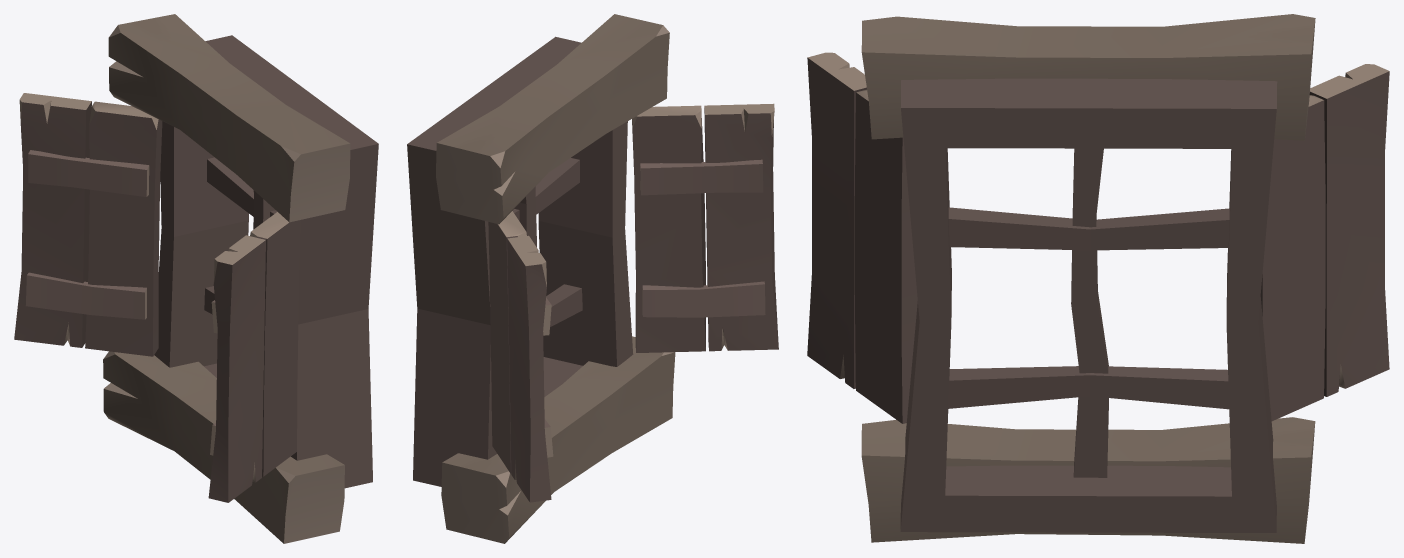
The model's file is window_2.glb.
The picture shows the model from 3 angles, left to right: view 1: azimuth 30°, elevation 25°; view 2: azimuth 150°, elevation 25°; view 3: azimuth 270°, elevation 25°; orthographic projection. The views are drawn at different scales.
Visible parts, largest first — view 1: Cube.018, Cube.013, Cube.017, Cube.014, Cube.015; view 2: Cube.018, Cube.014, Cube.017, Cube.015, Cube.013; view 3: Cube.018, Cube.013, Cube.014, Cube.017, Cube.015.
Part boxes in pixels (x1,y1,x2,y2): Cube.018: [154, 35, 378, 488]; Cube.013: [14, 93, 162, 356]; Cube.017: [108, 14, 350, 222]; Cube.014: [208, 212, 300, 502]; Cube.015: [103, 351, 344, 543]; Cube.018: [407, 36, 633, 486]; Cube.014: [632, 103, 778, 352]; Cube.017: [436, 14, 669, 224]; Cube.015: [441, 336, 675, 543]; Cube.013: [488, 211, 553, 502]; Cube.018: [900, 78, 1277, 532]; Cube.013: [1260, 64, 1389, 421]; Cube.014: [807, 52, 917, 423]; Cube.017: [861, 14, 1315, 140]; Cube.015: [861, 417, 1315, 543].
Bounding box in the file's own units: 0.8475 × 1.59 × 1.69.
Materials: 3 (2 with a texture image).
